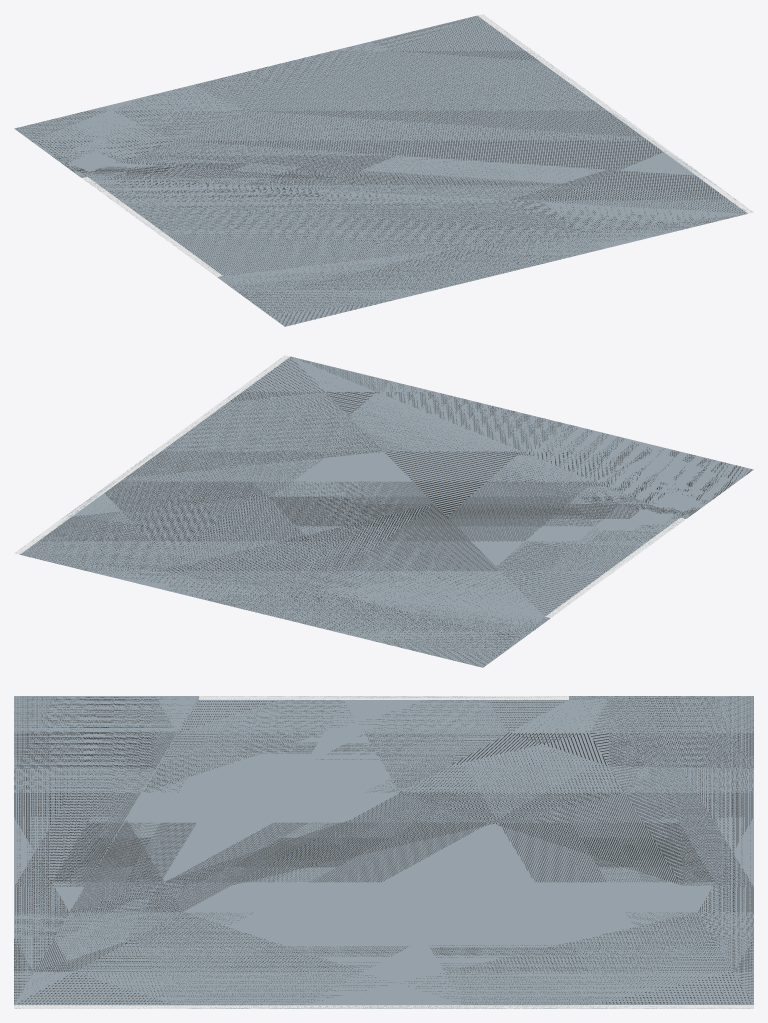
The model's file is lane_divider.fbx.
The picture shows the model from 3 angles, top to bottom: view 1: azimuth 30°, elevation 25°; view 2: azimuth 150°, elevation 25°; view 3: azimuth 270°, elevation 25°; orthographic projection. The views are drawn at different scales.
Visible parts, largest first — view 1: Model; view 2: Model; view 3: Model.
Boxes of the visible parts, box(x1,y1,x2,y2) form: Model: box(14, 14, 753, 326); Model: box(14, 355, 753, 667); Model: box(14, 696, 753, 1008).
Size of the model in its own units: 4 by 0 by 4.
